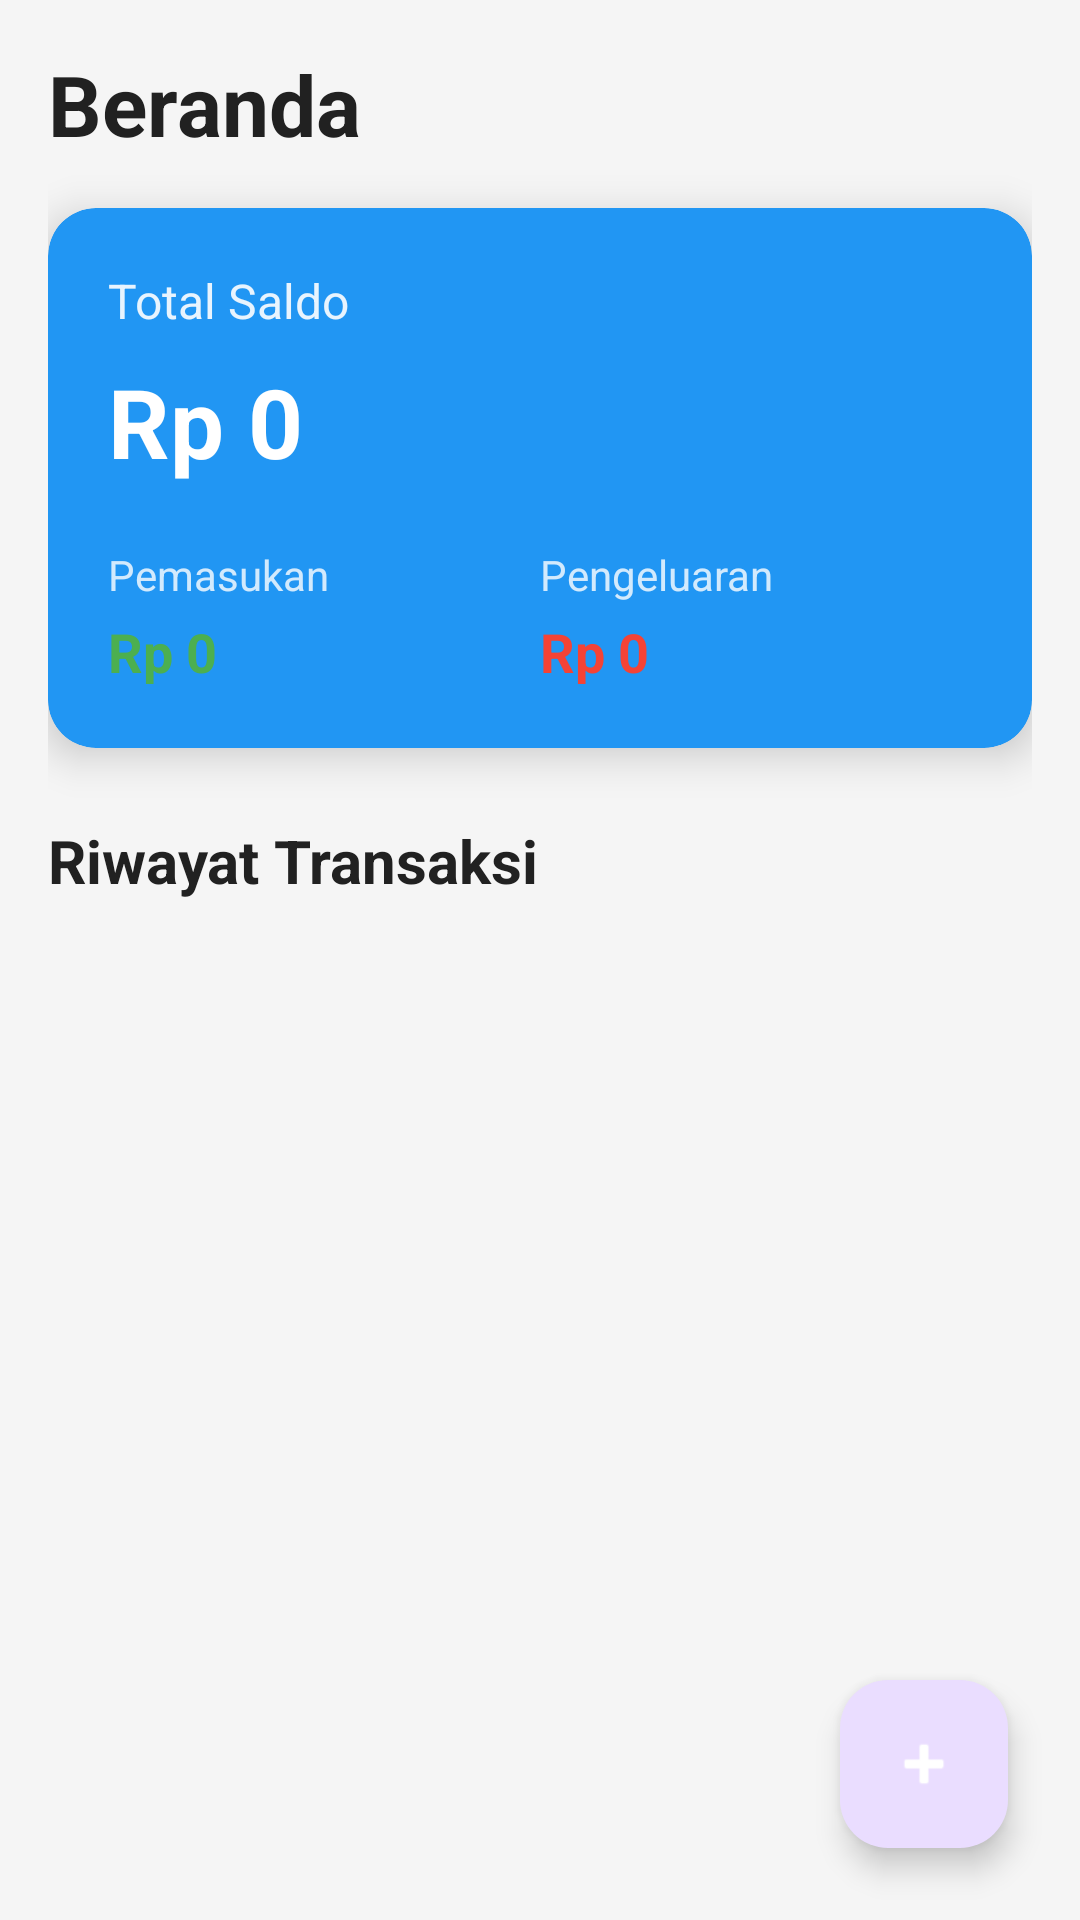

Point at icon controls on the screen. Image size 1080*1920, points as (x=x, y=y).
Tambah Transaksi: (x=924, y=1764)
